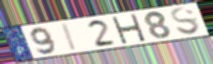2: (86, 19, 118, 47)
8: (143, 11, 172, 40)
9: (29, 26, 58, 55)
H: (110, 14, 148, 44)
I: (62, 22, 80, 52)
S: (170, 6, 203, 36)
